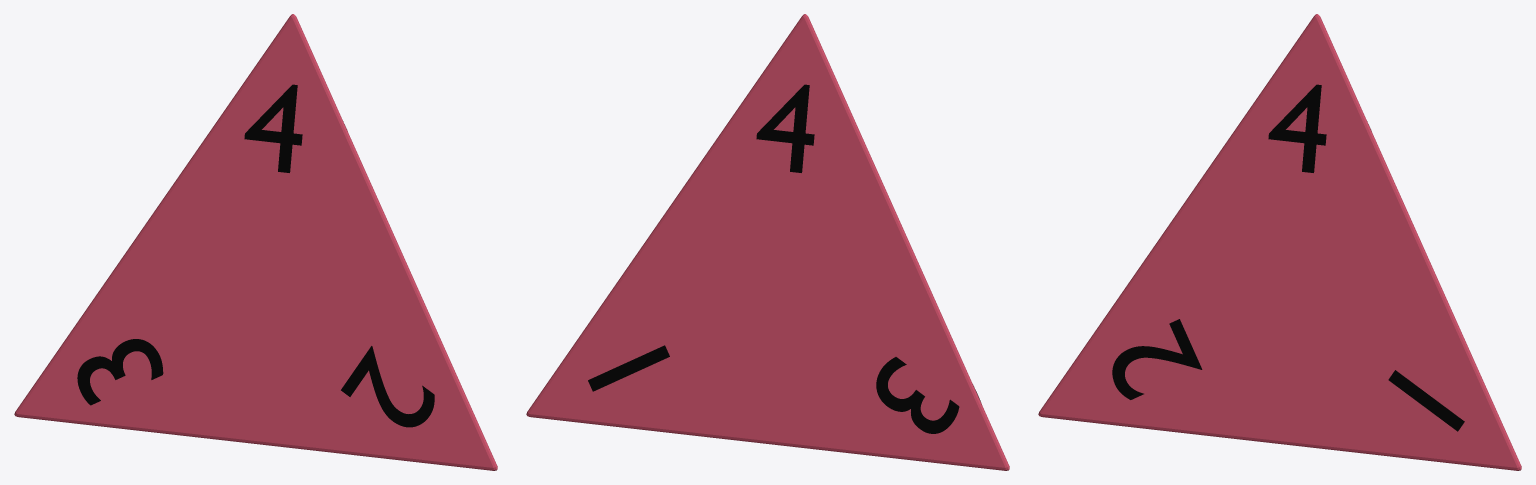
3 renders of one model, left to right at view 1: azimuth 30°, elevation 25°; view 2: azimuth 150°, elevation 25°; view 3: azimuth 270°, elevation 25°, orthographic.
Visible parts, largest first — view 1: d4, d4_num; view 2: d4, d4_num; view 3: d4, d4_num.
Part boxes in pixels (x1,y1,x2,y2): d4: (14,14,497,470); d4_num: (77,84,434,427); d4: (526,14,1009,470); d4_num: (588,84,980,433); d4: (1038,14,1521,470); d4_num: (1112,84,1464,431).
Size of the model in its own units: 2.83 by 2.41 by 2.83.
